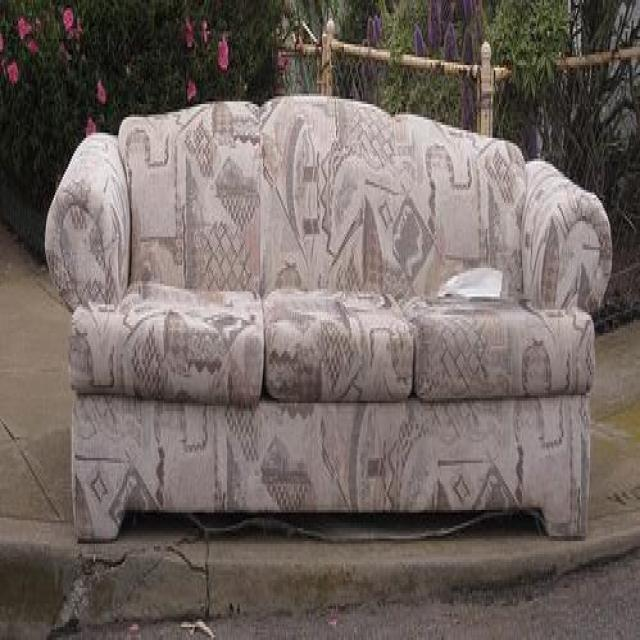sofa: (45, 86, 613, 548)
